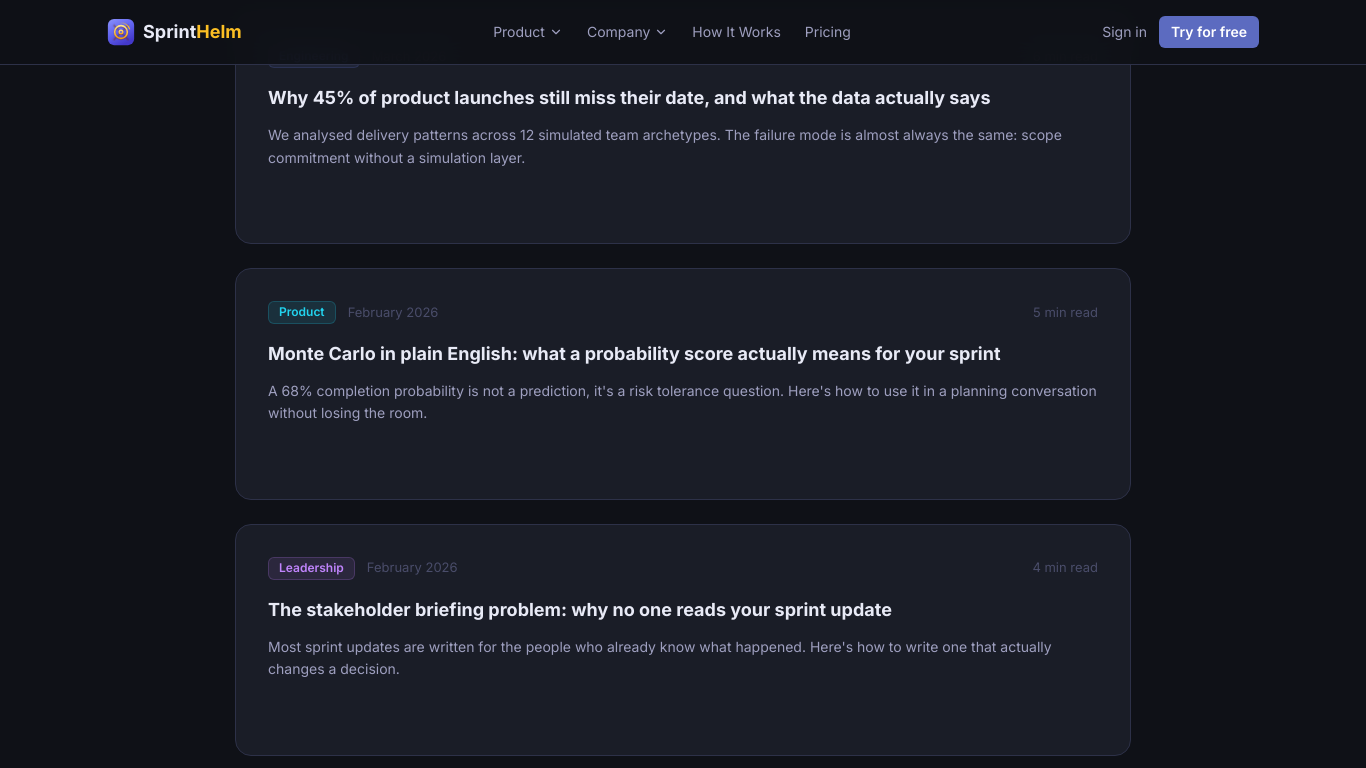
Test: Blog — post modal › second post opens with its own content
(page scrolled)
Click the 4th button at (683, 384), box [235, 268, 1131, 500]
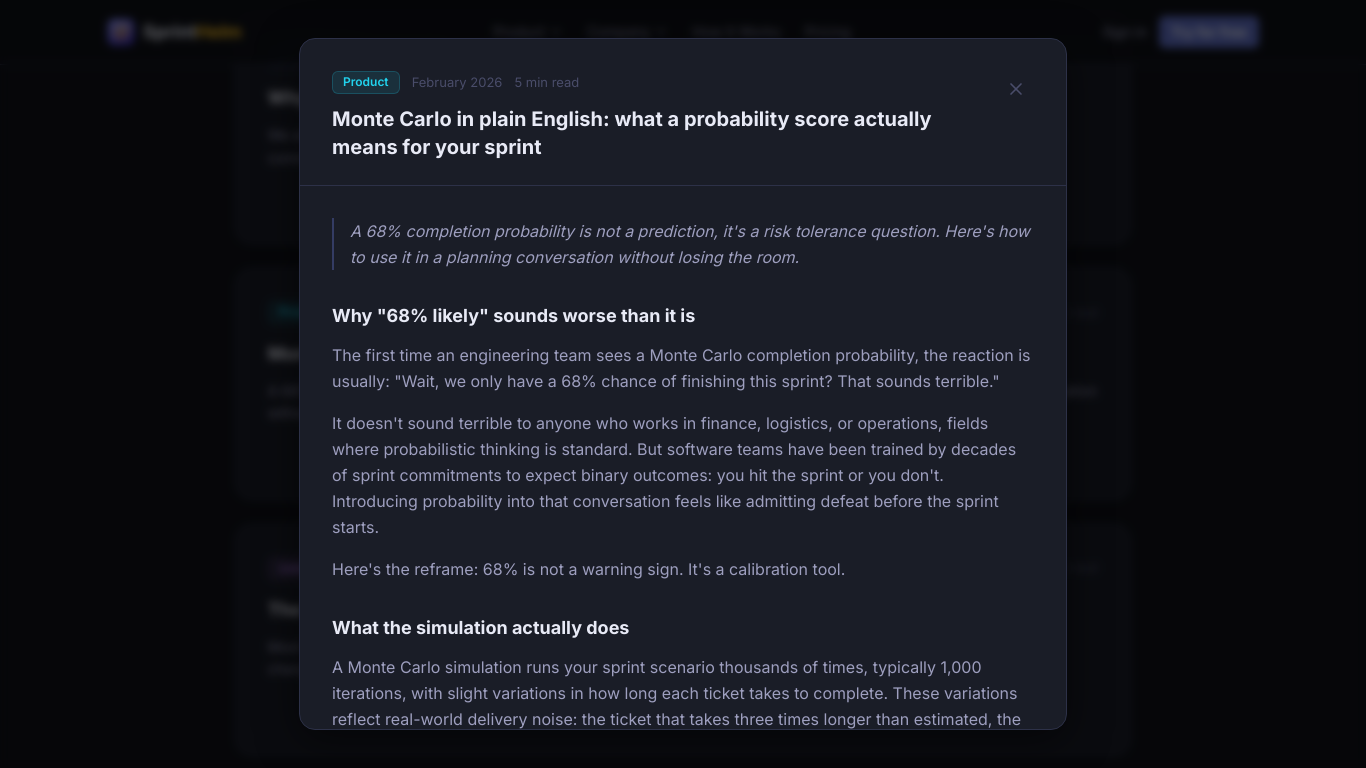
Expected: the heading "Monte Carlo in plain English" is shown, [332, 107, 932, 159]
Expected: the 1st heading is shown, [332, 106, 982, 161]
